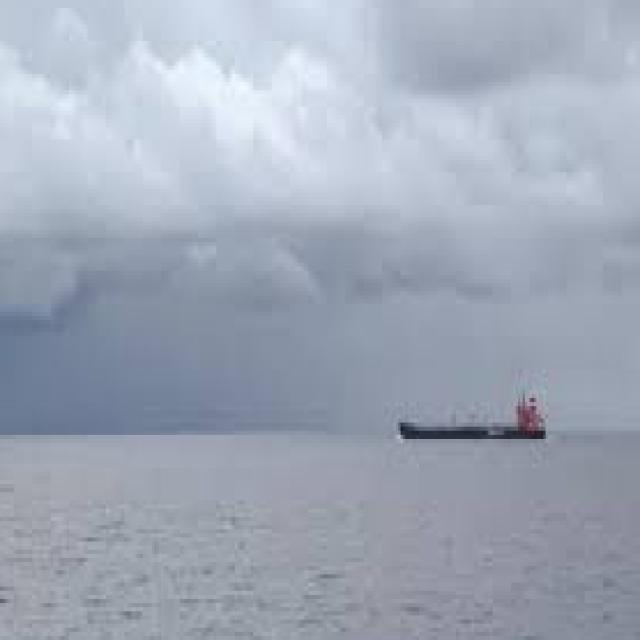cargoship: (392, 377, 551, 446)
